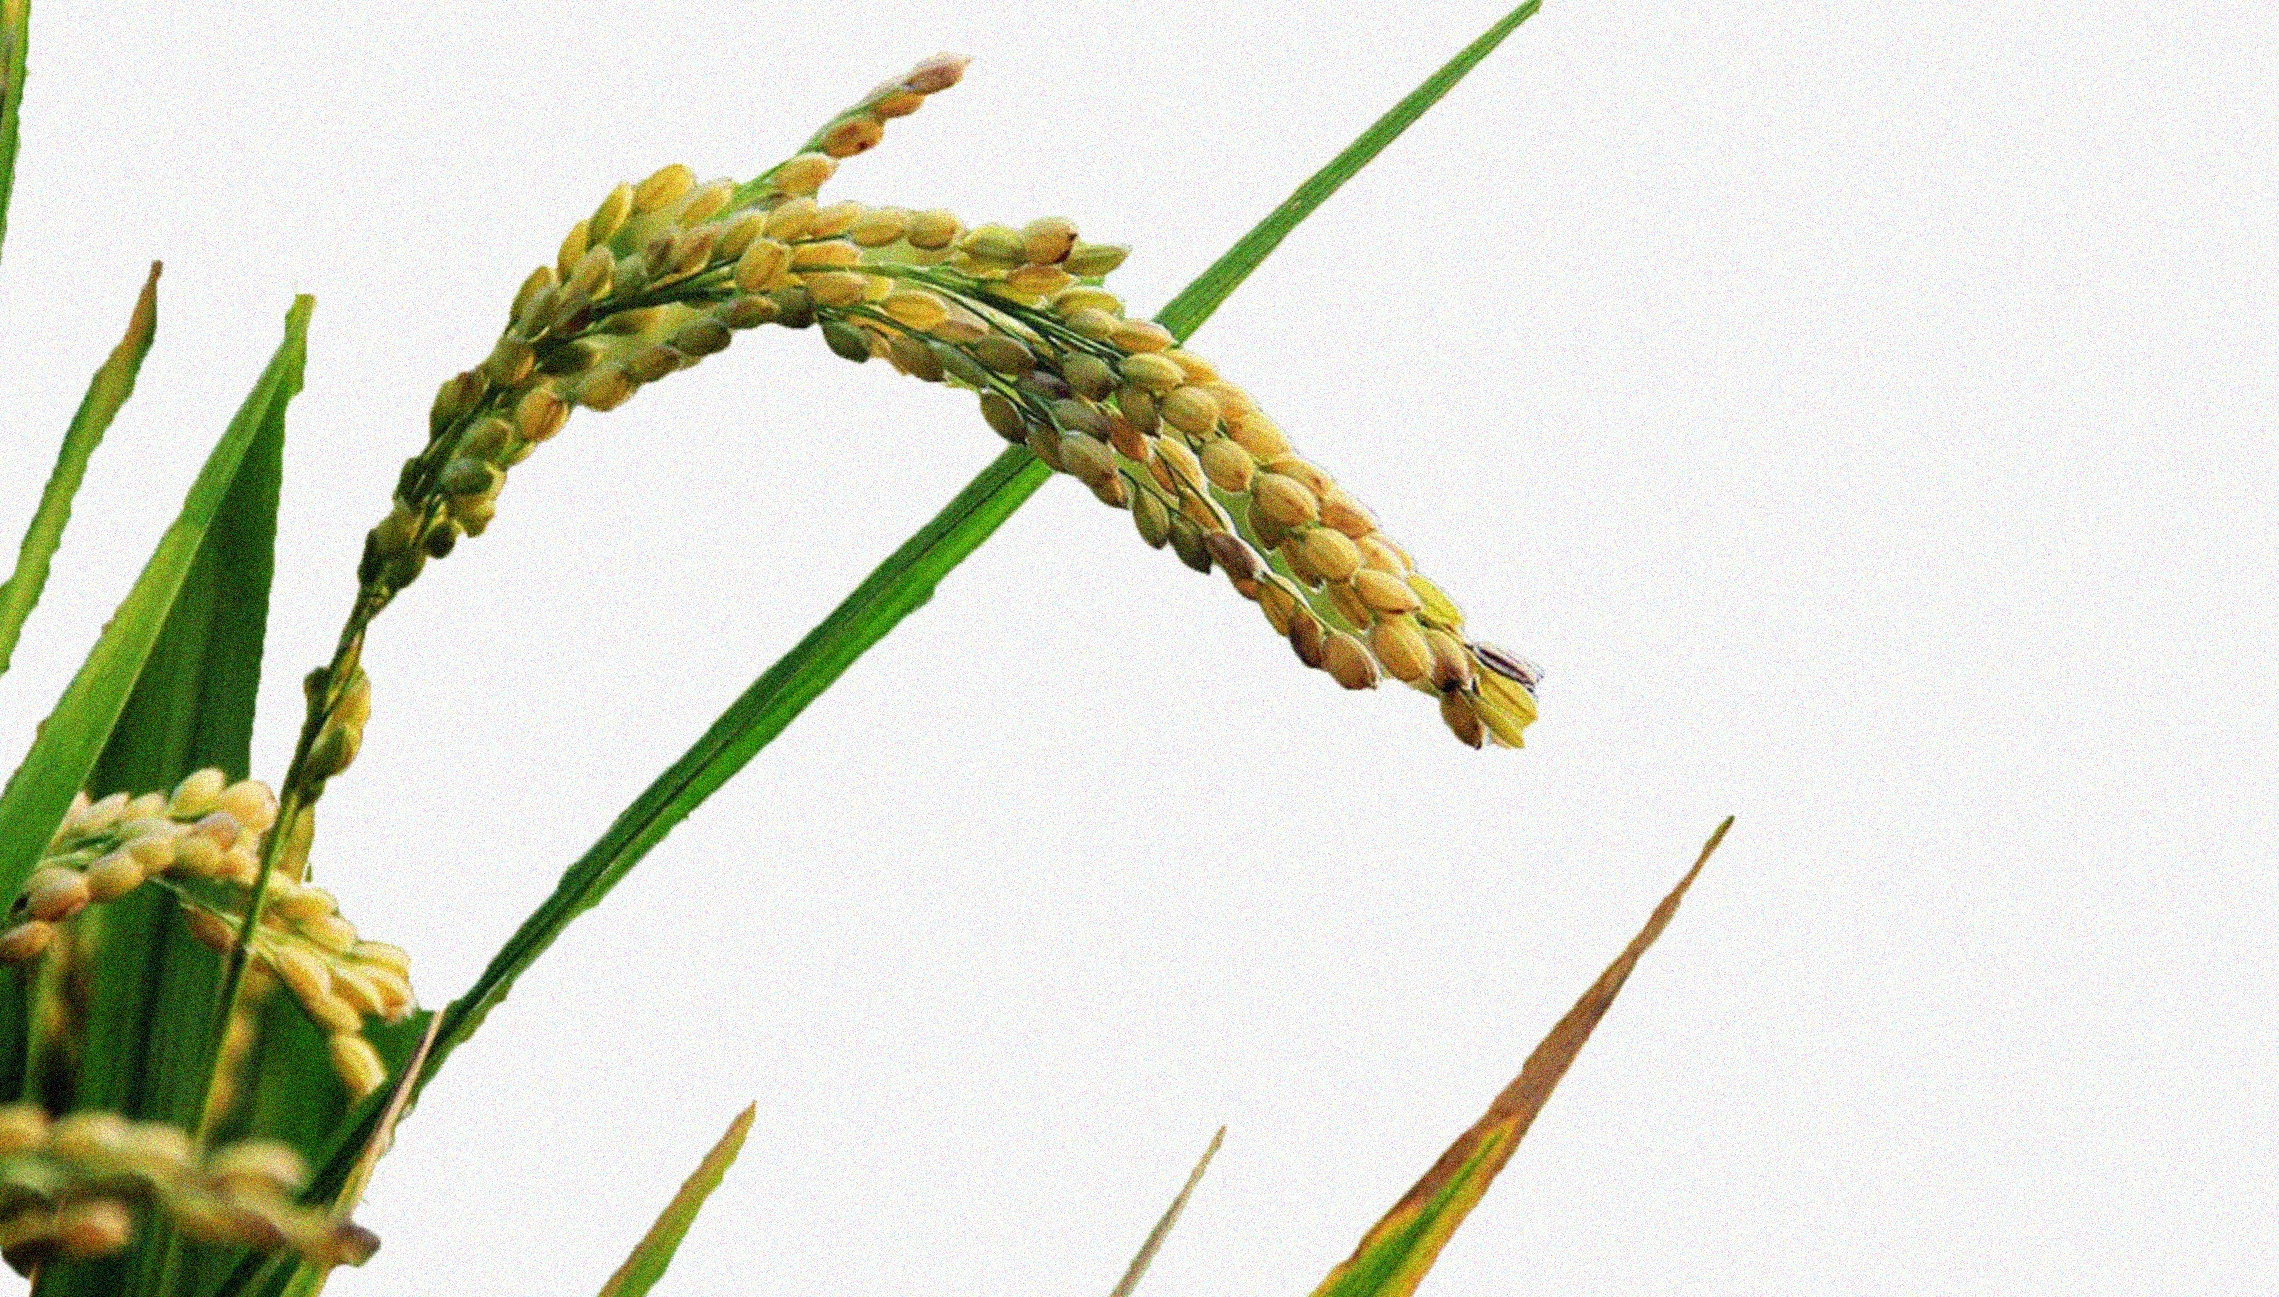rice: (265, 5, 1572, 862)
